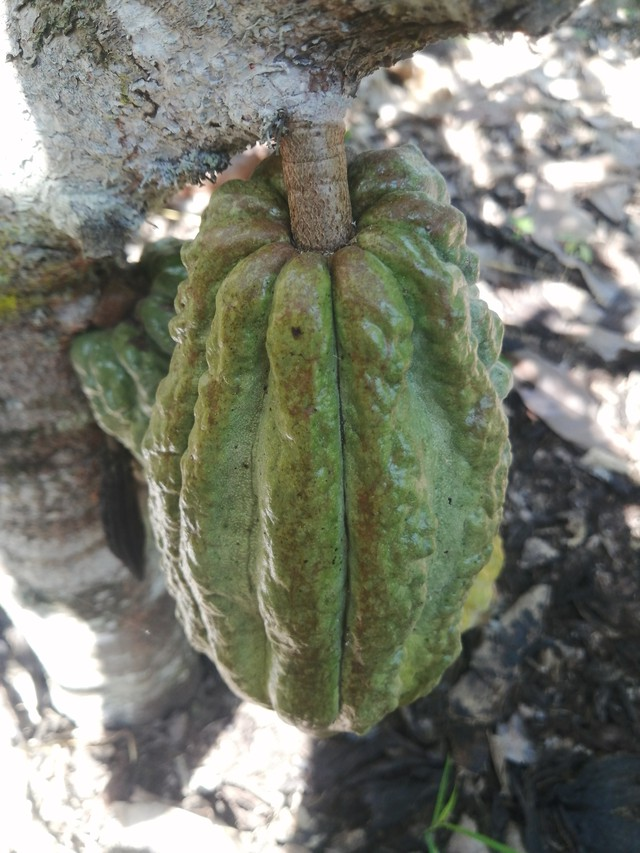Health: (130, 118, 544, 750)
